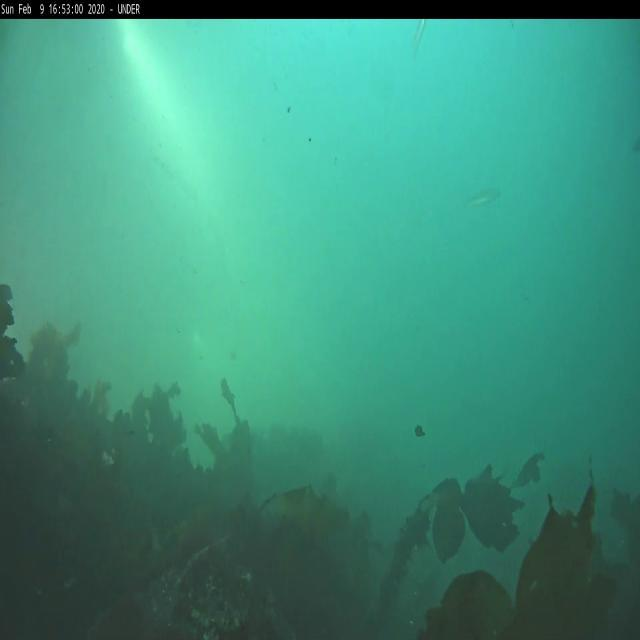fish: (468, 184, 504, 212), (411, 20, 426, 64)
